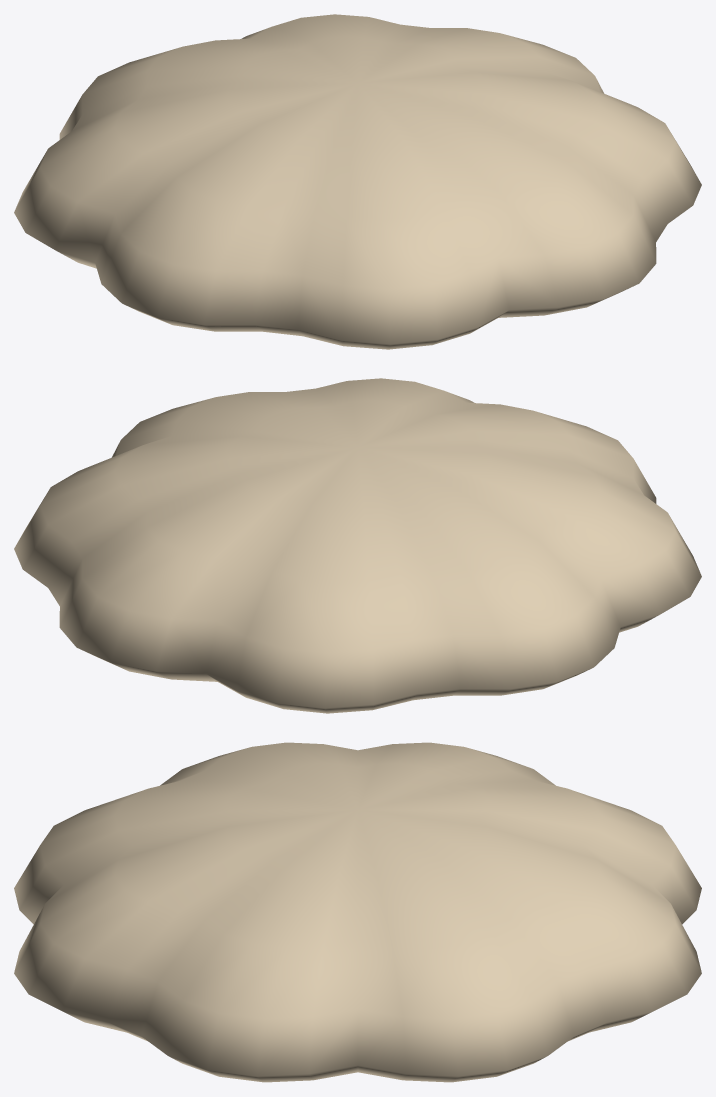
The model's file is cockle-3.glb.
The picture shows the model from 3 angles, top to bottom: view 1: azimuth 30°, elevation 25°; view 2: azimuth 150°, elevation 25°; view 3: azimuth 270°, elevation 25°; orthographic projection. The views are drawn at different scales.
Parts seen in each view (by area): view 1: cockle-3; view 2: cockle-3; view 3: cockle-3.
Part boxes in pixels (x1=…): cockle-3: x1=14, y1=14, x2=701, y2=349; cockle-3: x1=14, y1=378, x2=701, y2=713; cockle-3: x1=14, y1=742, x2=701, y2=1082.
Size of the model in its own units: 0.3786 by 0.084 by 0.3786.
